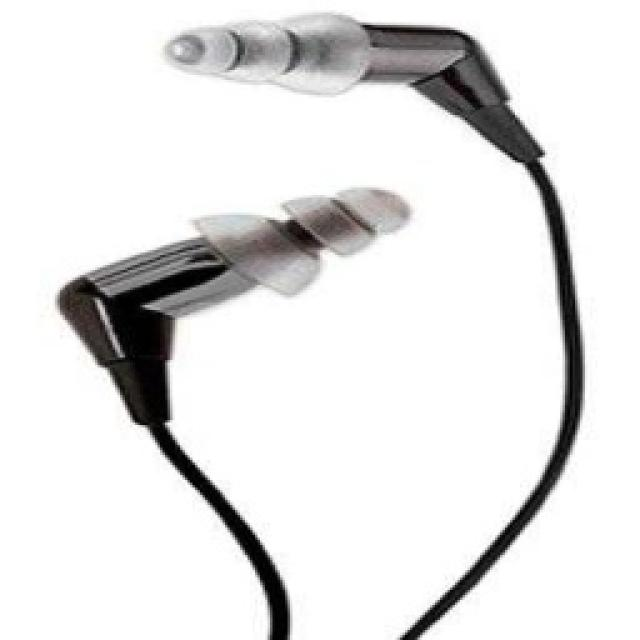headphones: (52, 8, 588, 638)
